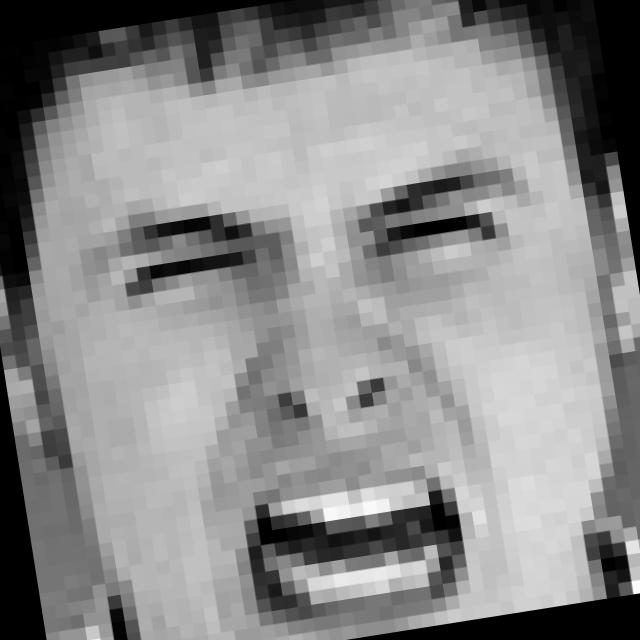angry: (86, 143, 593, 640)
